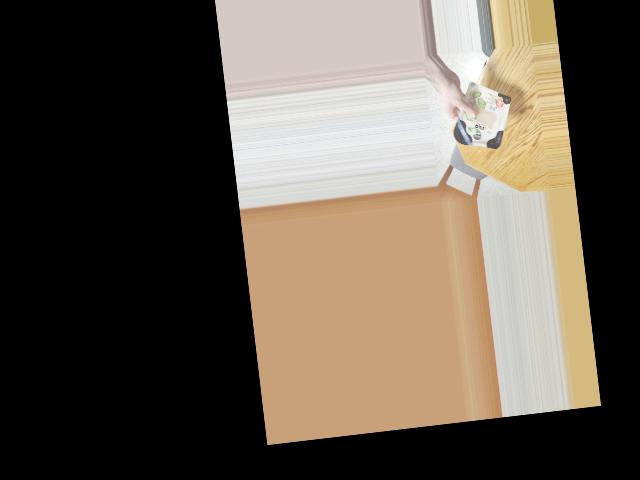cheese: (451, 89, 514, 156)
